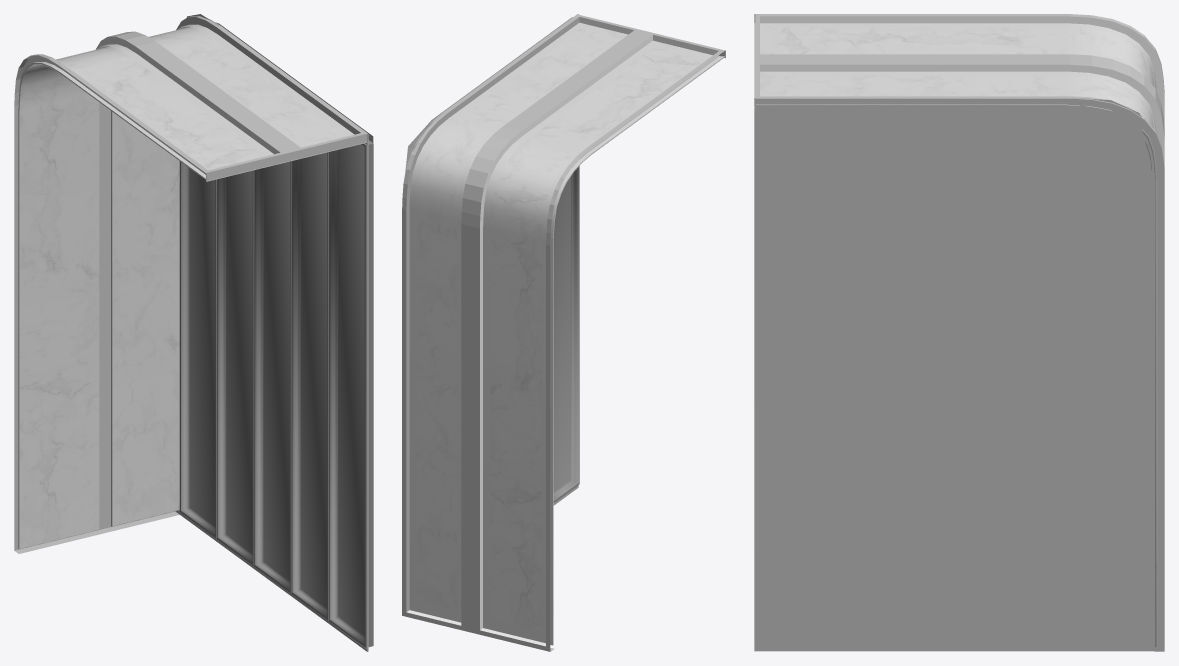
3 renders of one model, left to right at view 1: azimuth 30°, elevation 25°; view 2: azimuth 150°, elevation 25°; view 3: azimuth 270°, elevation 25°, orthographic. The views are drawn at different scales.
Visible parts, largest first — view 1: M_W_010_j_4x12; view 2: M_W_010_j_4x12; view 3: M_W_010_j_4x12.
Boxes of the visible parts, bbox=[...] form: M_W_010_j_4x12: bbox=[14, 14, 373, 651]; M_W_010_j_4x12: bbox=[402, 14, 725, 651]; M_W_010_j_4x12: bbox=[754, 14, 1164, 651].
Bounding box in the file's own units: 4.13 × 12.2 × 8.2.
